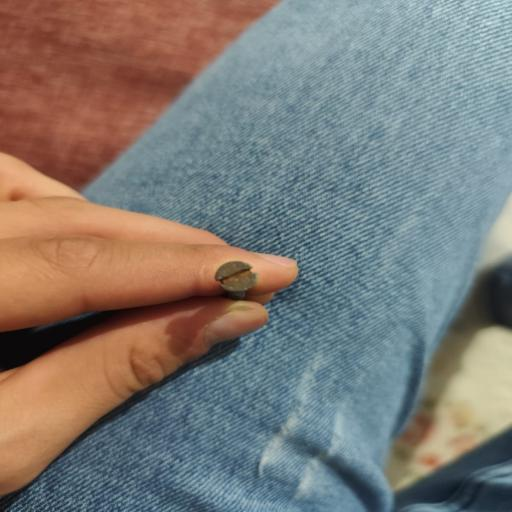Slotted: (215, 254, 257, 292)
